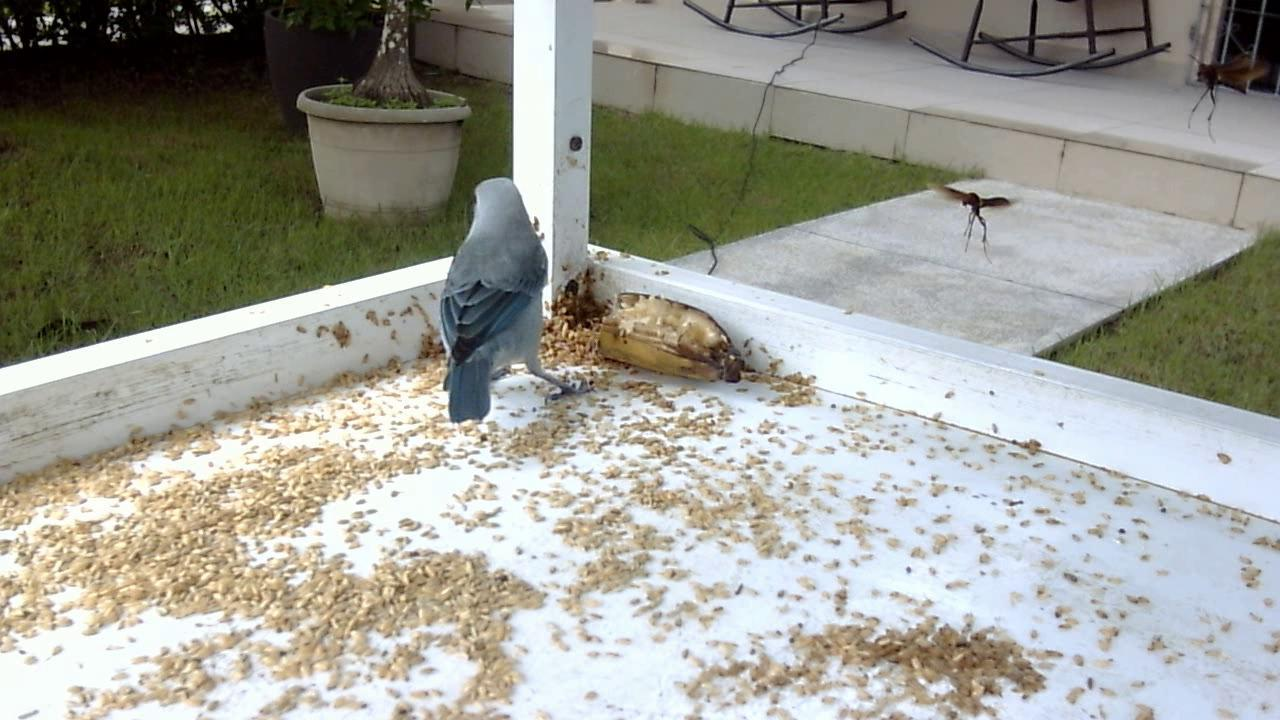sanhaco_da_amazonia: (430, 181, 584, 423)
